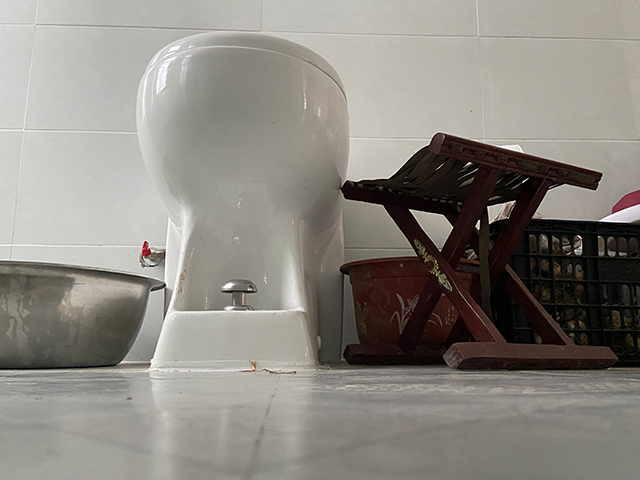closestool: (133, 27, 352, 373)
stool: (340, 131, 619, 372)
